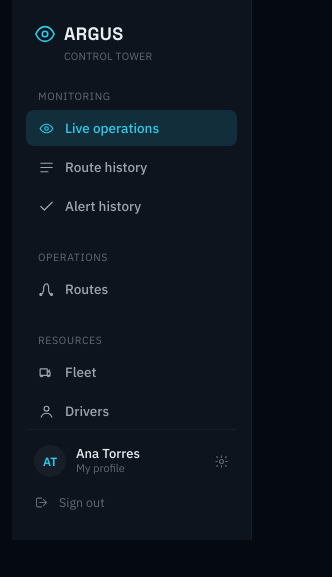
Scenario: Sidebar › clears the session and navigates to /login when the sign-out control is clicked
The width and height of the screenshot is (332, 577).
Step 1. Click the button "Sign out" → (132, 502), box x1=26 y1=486 x2=237 y2=518
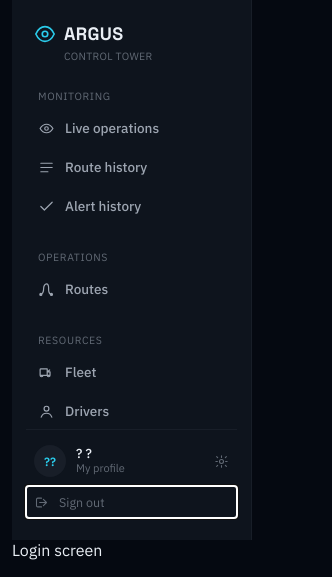
Expected: the text "Login screen" is shown, x1=12 y1=540 x2=102 y2=560
